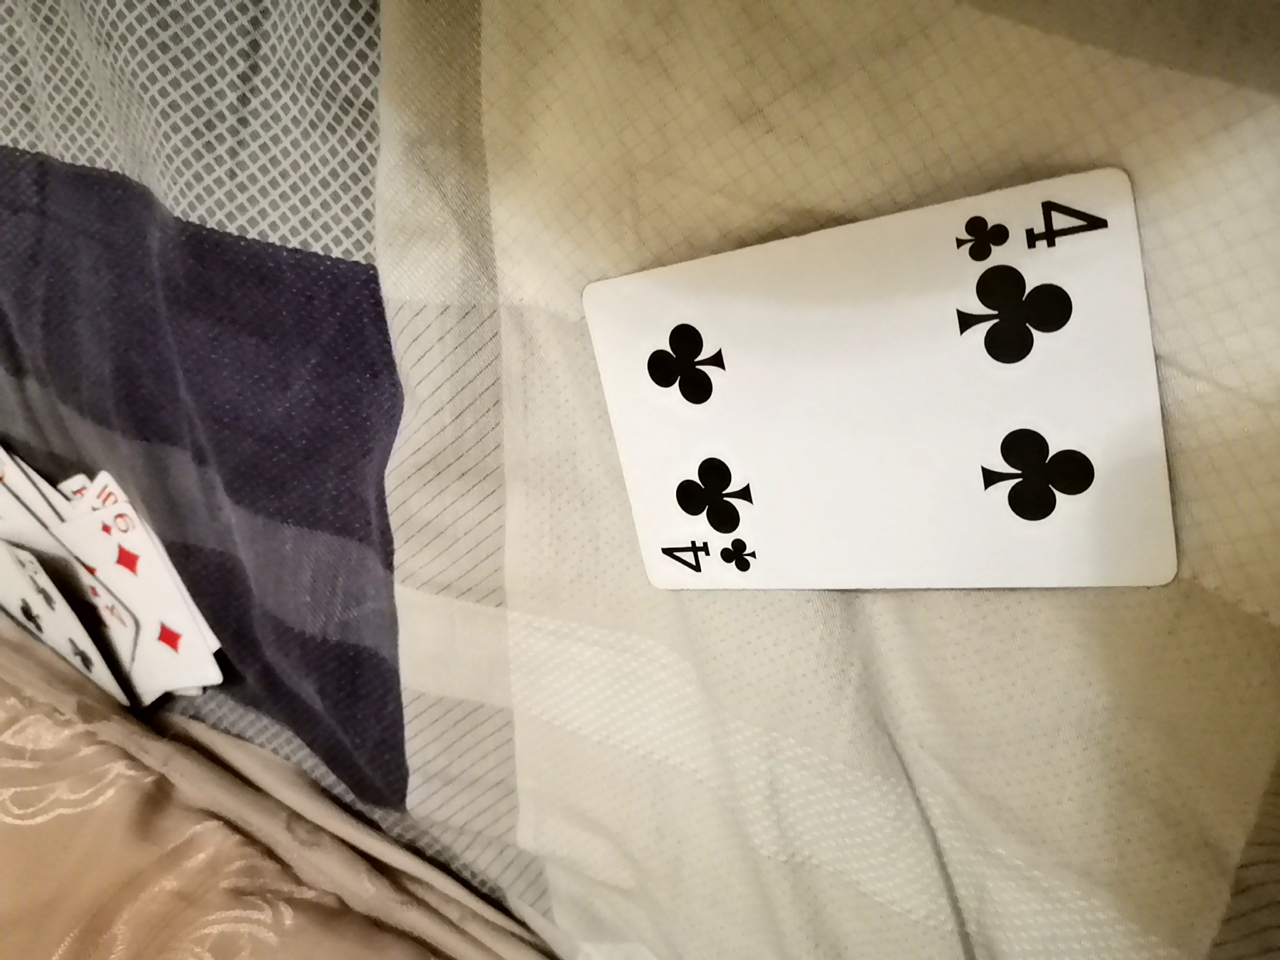mh 4: (596, 158, 1163, 603)
